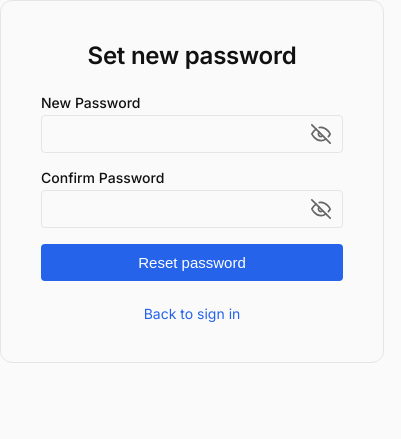
ResetPasswordForm › validates passwords match before submit
The image size is (401, 439).
Type "password123" into the password field labelled "New Password" at [192, 134], box [41,115,343,153]
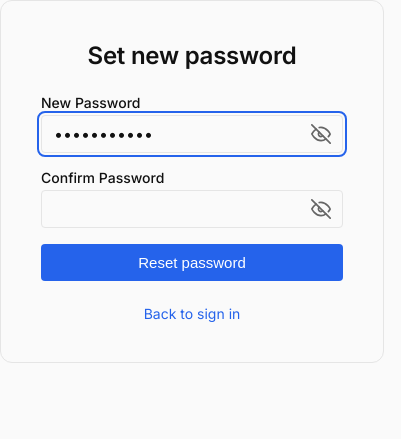
Type "different" into the password field labelled "Confirm Password" at [192, 209], box [41,190,343,228]
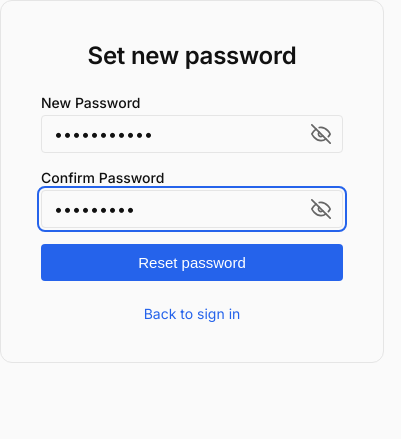
Click the button "Reset password" at [192, 262], box [41,244,343,281]
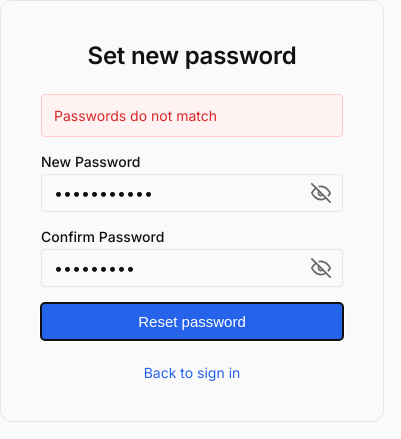
Expected: the text "Passwords do not match" is shown, [41,94,343,137]
